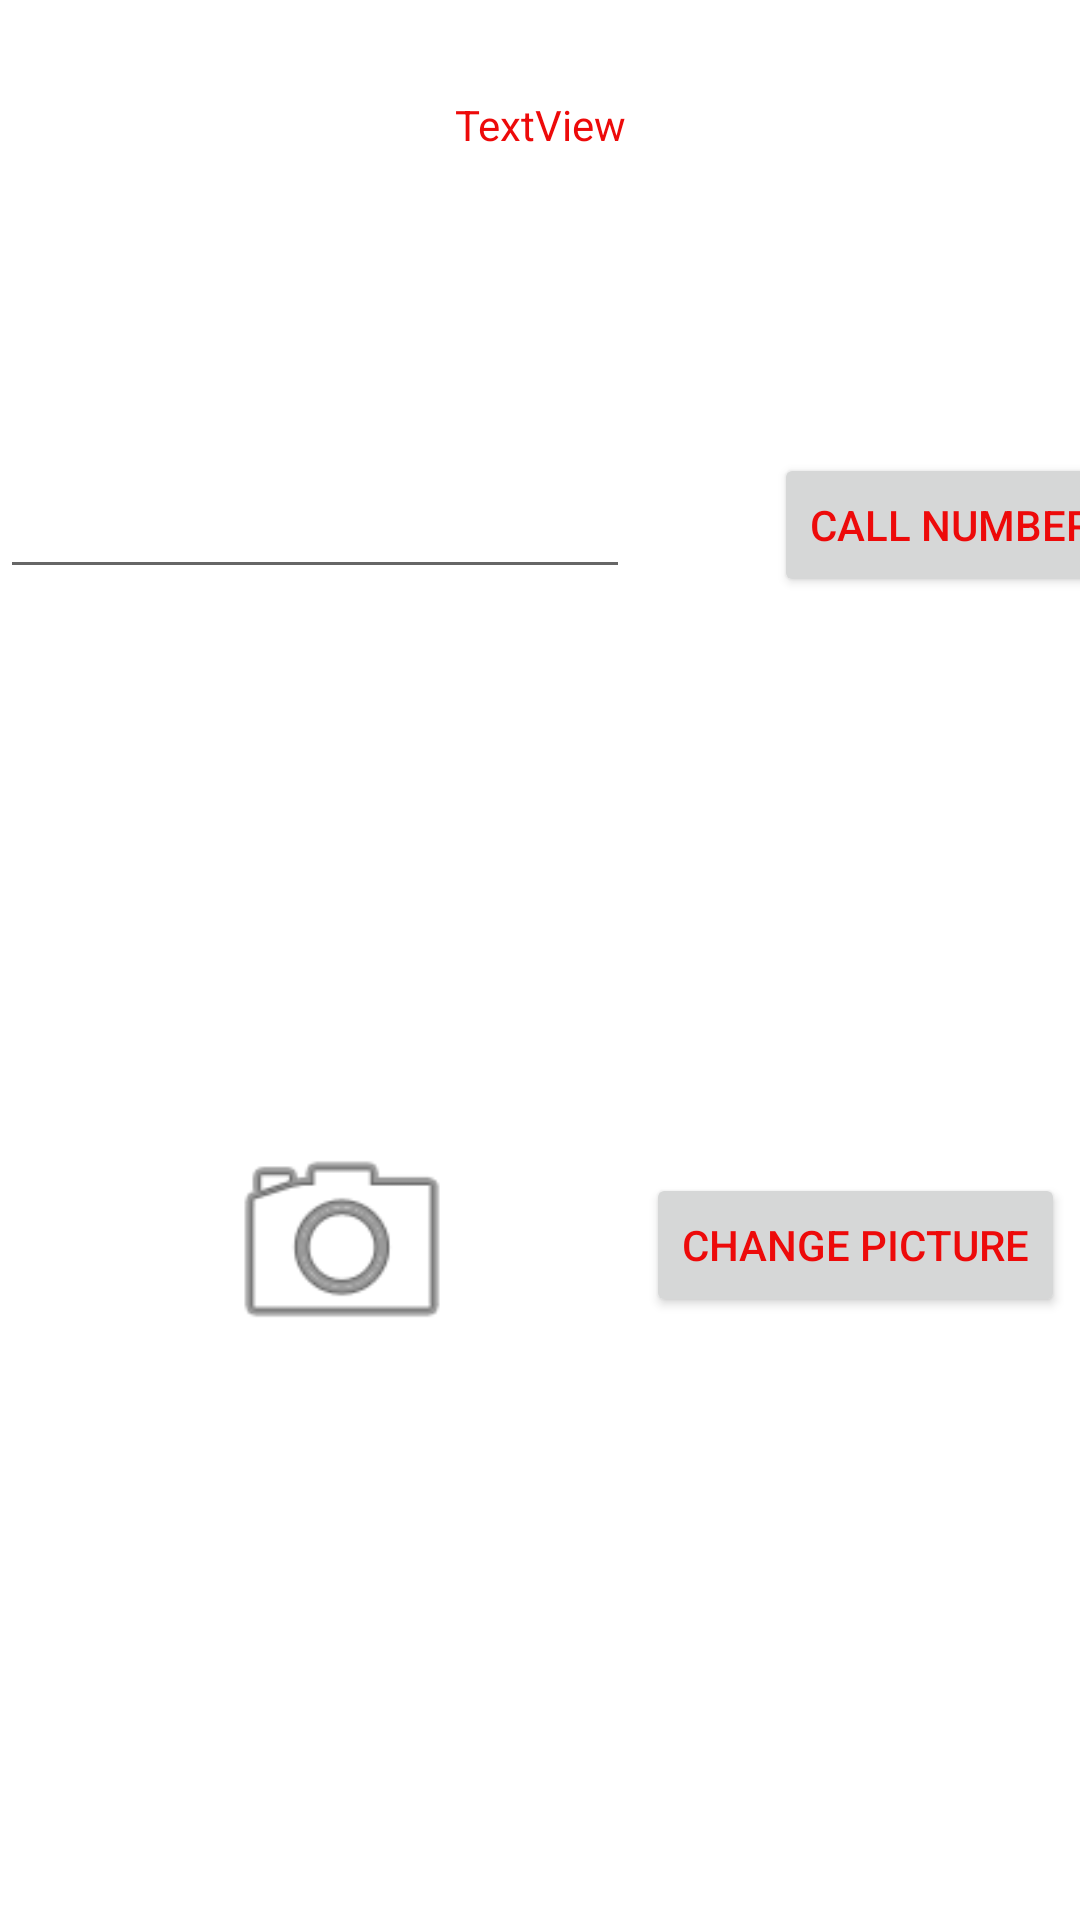

Screen size 1080×1920. Icon name, then its center in pixels as point (x, y):
camera: point (342, 1239)
